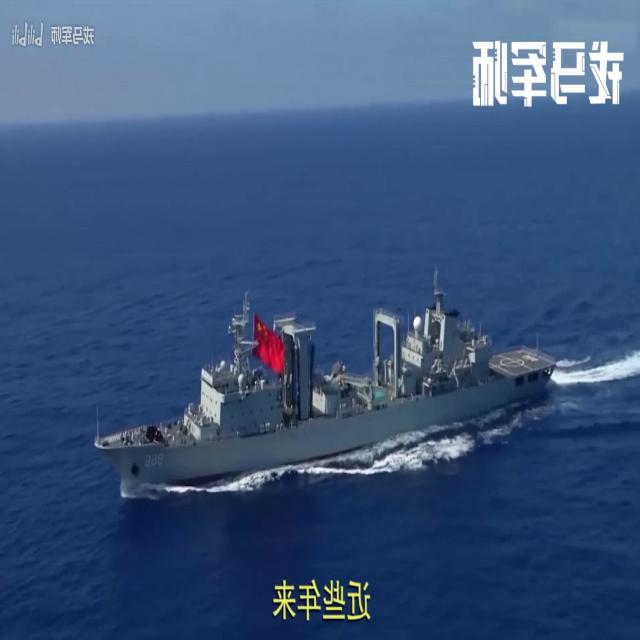navalvessels: (89, 263, 554, 483)
